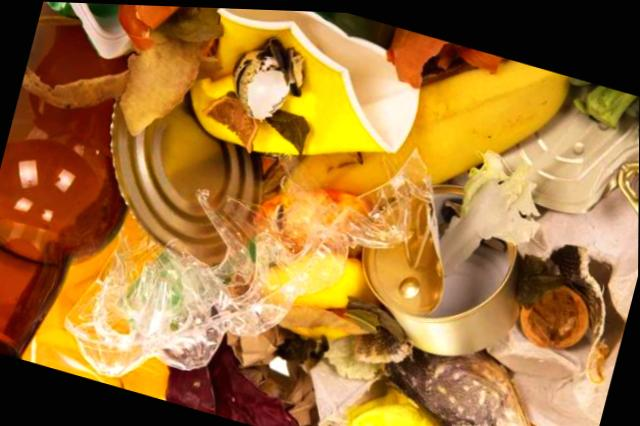Garbage: (0, 1, 640, 426)
Metal: (502, 81, 639, 208), (617, 158, 639, 209)
contaminated_waste: (62, 90, 525, 386), (613, 153, 639, 218)
